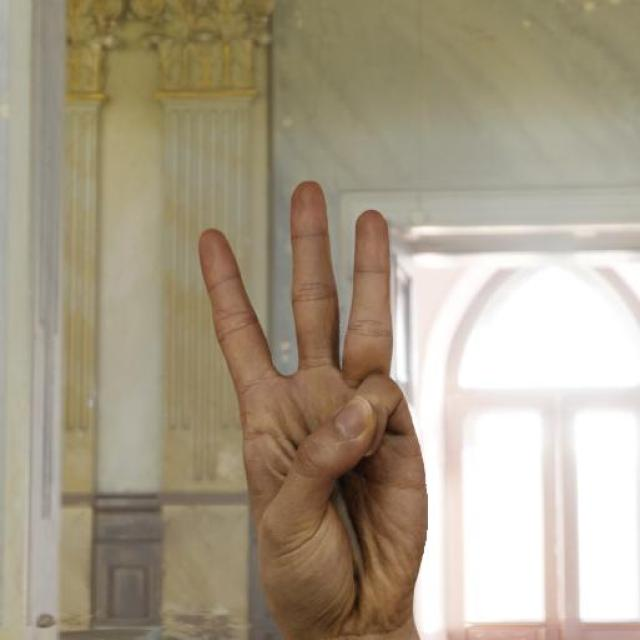W: (193, 175, 432, 640)
